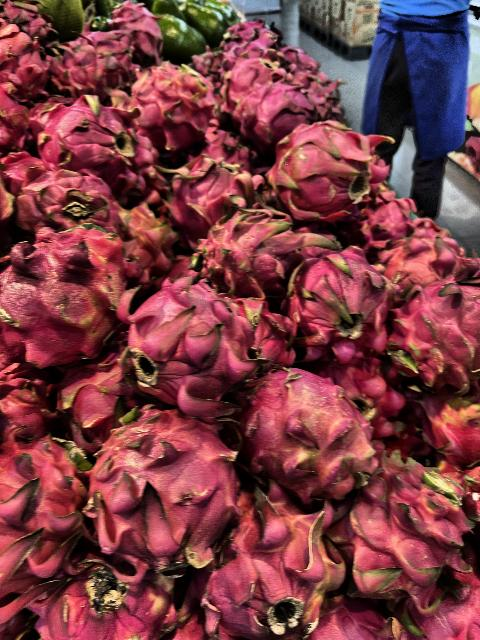buah-naga-belum-matang: (234, 362, 374, 494), (216, 487, 344, 631), (33, 538, 181, 640)
buah-naga-matang: (87, 395, 243, 561), (348, 451, 478, 604), (112, 277, 264, 405), (10, 220, 126, 354), (0, 423, 84, 581), (374, 274, 480, 381), (266, 119, 377, 214), (186, 206, 324, 282), (34, 98, 150, 188), (298, 242, 388, 352), (152, 148, 258, 232), (18, 164, 124, 234), (133, 64, 216, 148), (232, 81, 334, 142), (376, 237, 480, 286), (112, 204, 176, 282), (218, 54, 290, 108)
